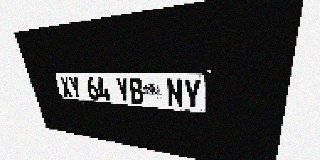4: (96, 77, 111, 101)
6: (85, 77, 100, 100)
B: (128, 78, 145, 104)
N: (166, 78, 184, 108)
X: (59, 76, 73, 98)
Y: (183, 79, 201, 110), (115, 77, 131, 103), (68, 76, 83, 99)
